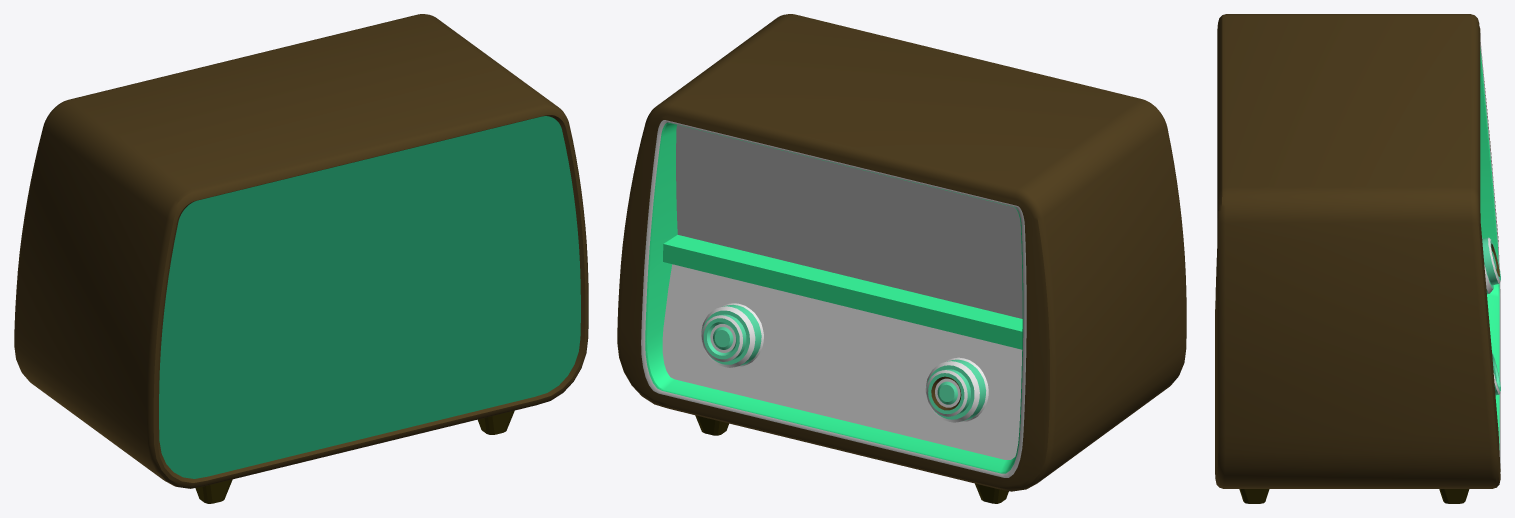
Rendered from radio 3.fbx.
3 renders of one model, left to right at view 1: azimuth 30°, elevation 25°; view 2: azimuth 150°, elevation 25°; view 3: azimuth 270°, elevation 25°, orthographic.
Visible parts, largest first — view 1: VintageRadio; view 2: VintageRadio, knob right, knob left; view 3: VintageRadio, knob right.
Part boxes in pixels (left/top/right/bottom): VintageRadio: left=14, top=14, right=588, bottom=503; VintageRadio: left=617, top=14, right=1186, bottom=503; knob right: left=925, top=357, right=988, bottom=422; knob left: left=701, top=303, right=763, bottom=367; VintageRadio: left=1215, top=14, right=1500, bottom=503; knob right: left=1482, top=237, right=1500, bottom=294.
Size of the model in its own units: 3.56 by 2 by 2.53.
